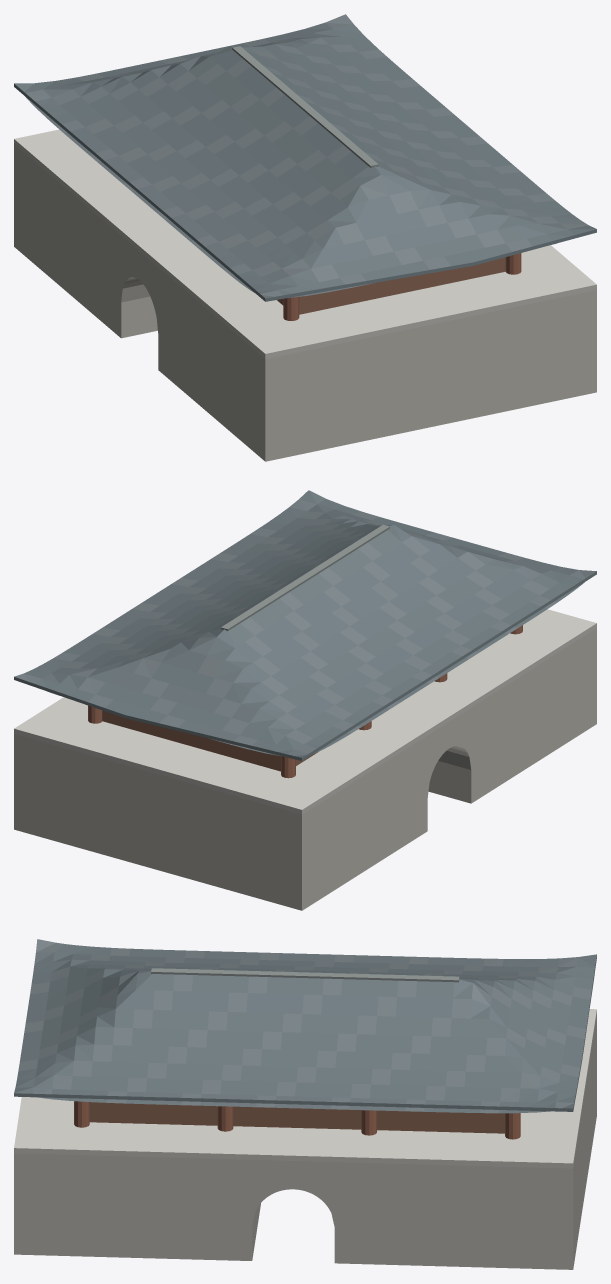
File: civic-5b61791e-c2f8-4b57-b9f0-1fe48e3d3796.glb
3 views of the same model, one above another, from view 1: azimuth 30°, elevation 25°; view 2: azimuth 150°, elevation 25°; view 3: azimuth 270°, elevation 25° (orthographic). The views are drawn at different scales.
Parts seen in each view (by area): view 1: civic-5b61791e-c2f8-4b57-b9f0-1fe48e3d3796; view 2: civic-5b61791e-c2f8-4b57-b9f0-1fe48e3d3796; view 3: civic-5b61791e-c2f8-4b57-b9f0-1fe48e3d3796.
Boxes of the visible parts, x1,y1,x2,y2 form: civic-5b61791e-c2f8-4b57-b9f0-1fe48e3d3796: (14, 14, 596, 461); civic-5b61791e-c2f8-4b57-b9f0-1fe48e3d3796: (14, 490, 596, 910); civic-5b61791e-c2f8-4b57-b9f0-1fe48e3d3796: (14, 939, 596, 1269).
Size of the model in its own units: 10.34 by 6 by 15.03.
